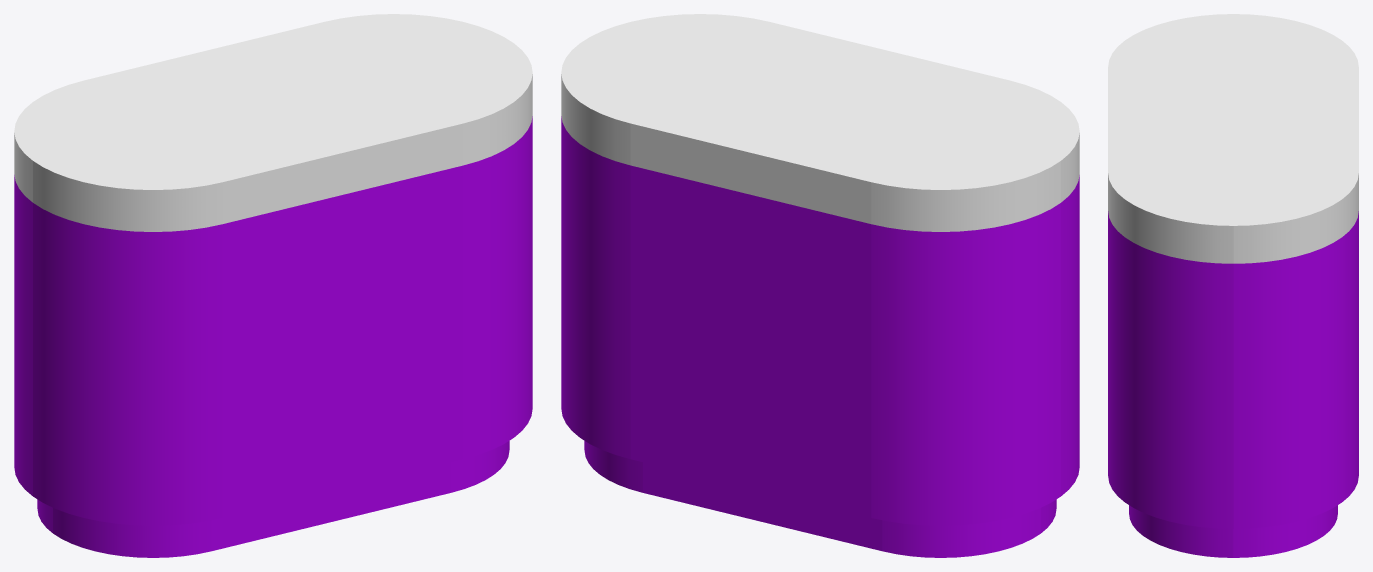
File: standee-10.glb
The picture shows the model from 3 angles, left to right: view 1: azimuth 30°, elevation 25°; view 2: azimuth 150°, elevation 25°; view 3: azimuth 270°, elevation 25°; orthographic projection. The views are drawn at different scales.
Parts seen in each view (by area): view 1: 3DGeom-15, 3DGeom-16; view 2: 3DGeom-15, 3DGeom-16; view 3: 3DGeom-15, 3DGeom-16.
Part boxes in pixels (left/top/right/bottom): 3DGeom-15: left=14, top=116, right=532, bottom=557; 3DGeom-16: left=14, top=14, right=532, bottom=231; 3DGeom-15: left=561, top=116, right=1079, bottom=557; 3DGeom-16: left=561, top=14, right=1079, bottom=231; 3DGeom-15: left=1108, top=211, right=1358, bottom=557; 3DGeom-16: left=1108, top=14, right=1358, bottom=263.
Size of the model in its own units: 1.2 by 0.9 by 0.6.
